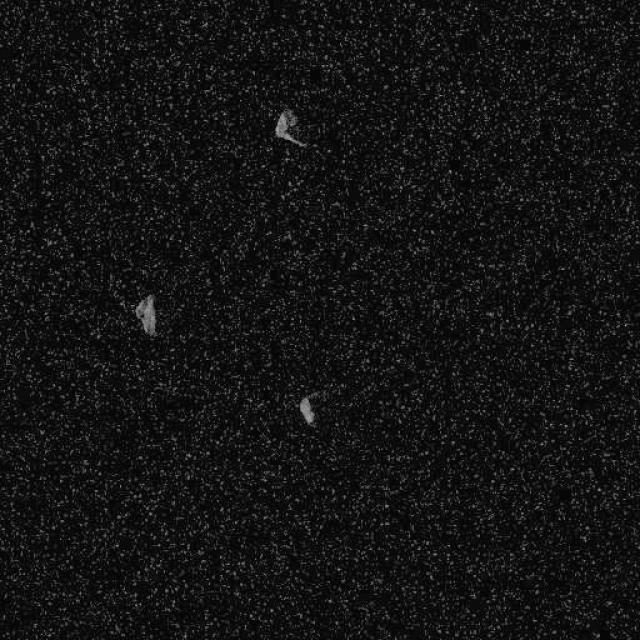D2: (272, 108, 308, 148), (134, 292, 158, 336), (298, 395, 316, 426)
